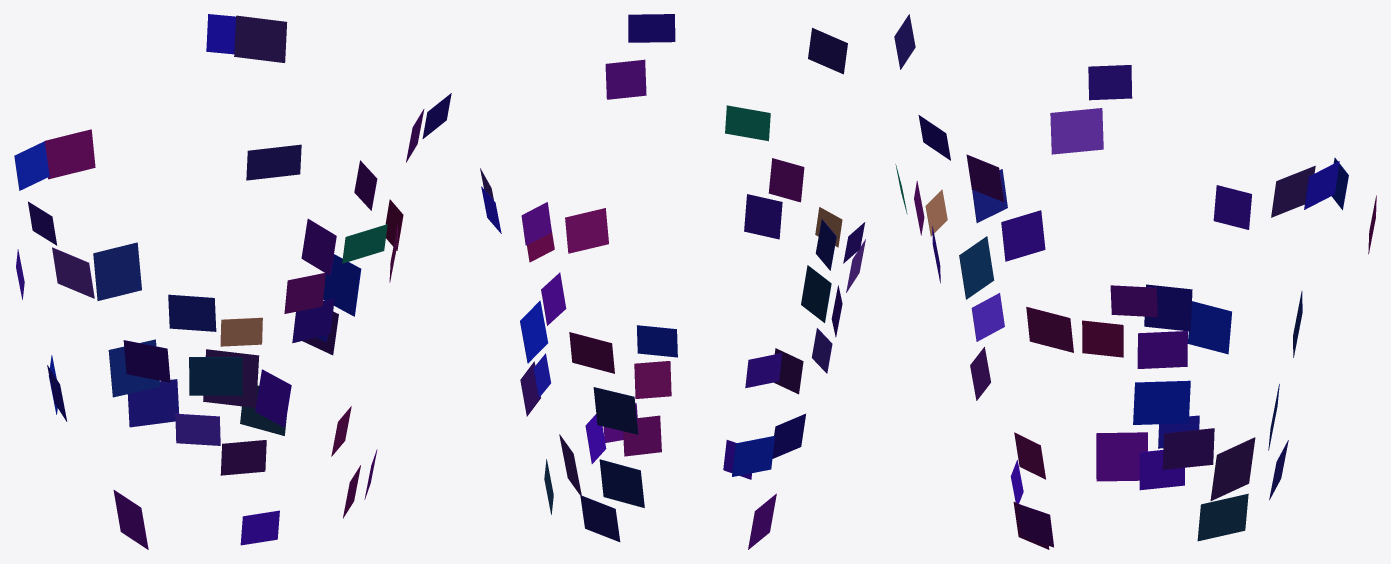
The model's file is _Holograms_0.fbx.
3 views of the same model, side by side, from view 1: azimuth 30°, elevation 25°; view 2: azimuth 150°, elevation 25°; view 3: azimuth 270°, elevation 25° (orthographic). The views are drawn at different scales.
Parts seen in each view (by area): view 1: _Holograms_0; view 2: _Holograms_0; view 3: _Holograms_0.
Part boxes in pixels (<box>): _Holograms_0: <box>14,14,451,549</box>; _Holograms_0: <box>480,14,865,549</box>; _Holograms_0: <box>894,14,1376,549</box>.
Bounding box in the file's own units: 656 × 814 × 755.
